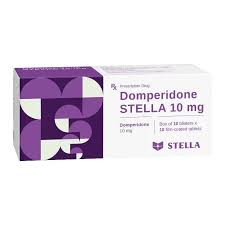Clorpheniramin: (116, 88, 200, 102)
